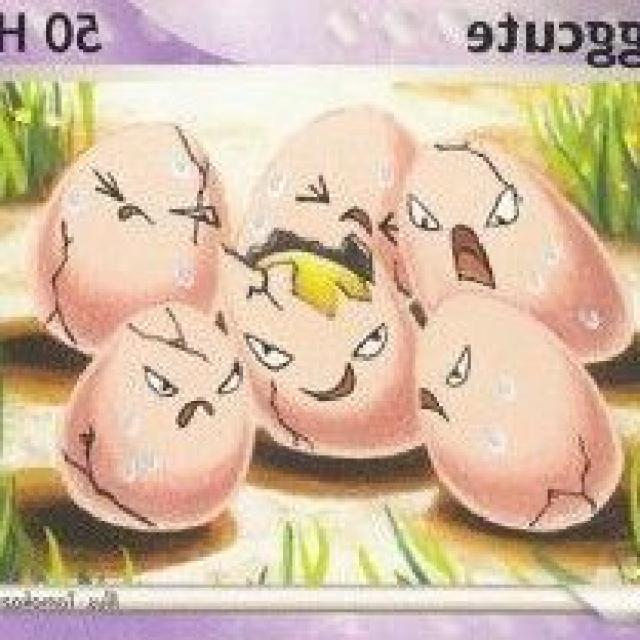Exeggcute: (32, 100, 614, 558)
